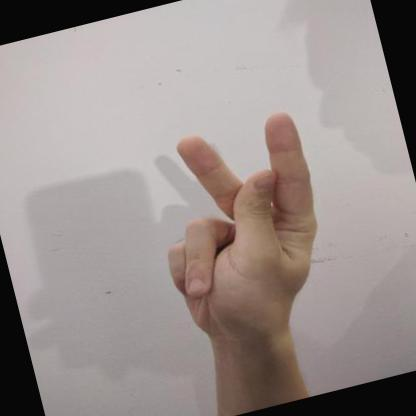K: (168, 112, 318, 350)
